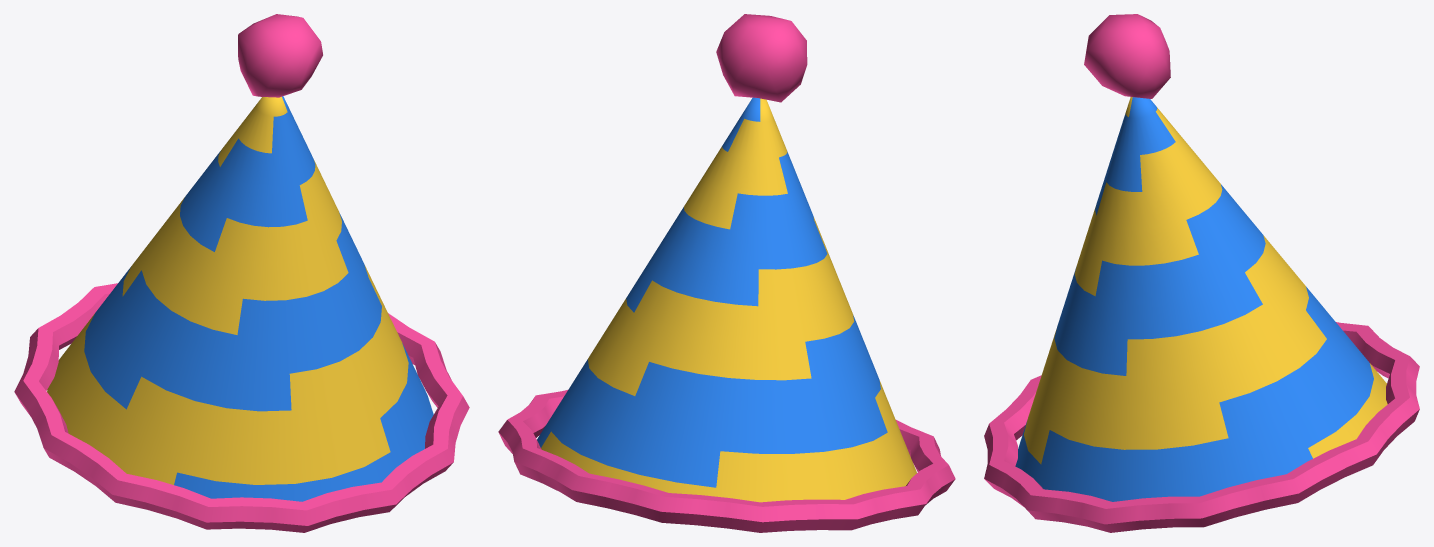
The model's file is acc_party.glb.
3 renders of one model, left to right at view 1: azimuth 30°, elevation 25°; view 2: azimuth 150°, elevation 25°; view 3: azimuth 270°, elevation 25°, orthographic.
Parts seen in each view (by area): view 1: PartyHat; view 2: PartyHat; view 3: PartyHat.
Boxes of the visible parts, x1,y1,x2,y2 form: PartyHat: (14,14,469,532); PartyHat: (498,14,955,532); PartyHat: (984,14,1419,532).
Bounding box in the file's own units: 0.468 × 0.5094 × 0.4493.
